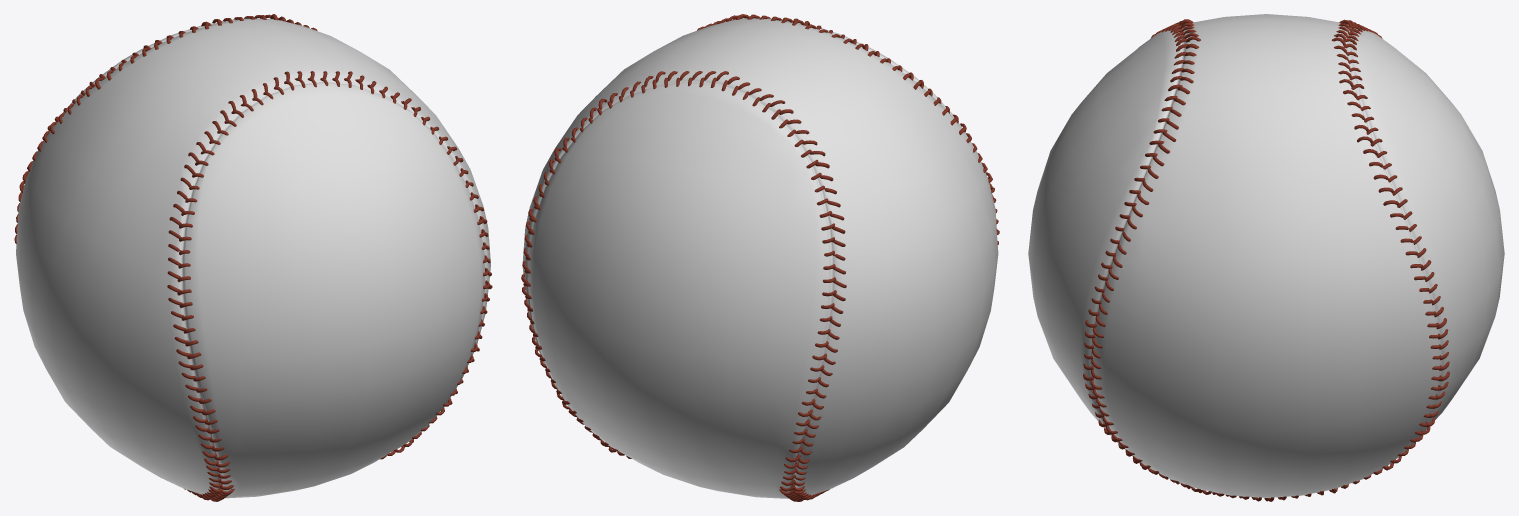
File: baseball.glb
3 renders of one model, left to right at view 1: azimuth 30°, elevation 25°; view 2: azimuth 150°, elevation 25°; view 3: azimuth 270°, elevation 25°, orthographic.
Visible parts, largest first — view 1: ball, トーラス.001; view 2: ball, トーラス.001; view 3: ball, トーラス.001.
Boxes of the visible parts, <box> form: ball: <box>16,18,490,498</box>; トーラス.001: <box>14,14,492,501</box>; ball: <box>522,18,998,498</box>; トーラス.001: <box>521,14,999,501</box>; ball: <box>1028,14,1504,497</box>; トーラス.001: <box>1083,19,1449,501</box>.
Bounding box in the file's own units: 1.61 × 1.63 × 1.61.
